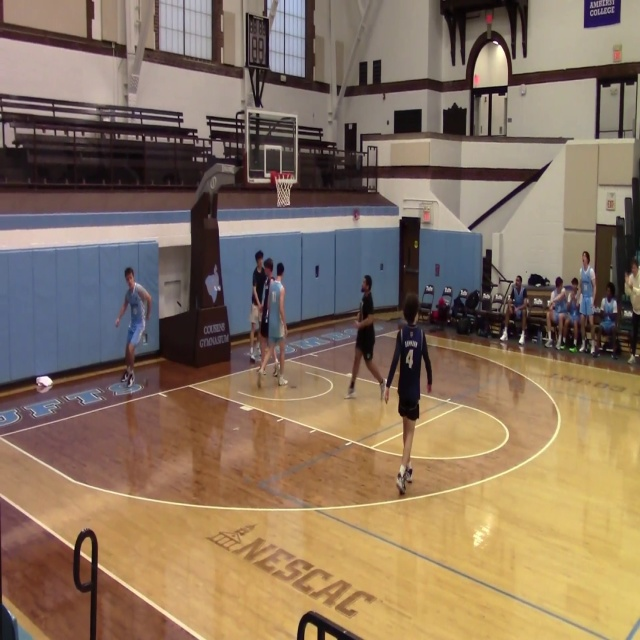Basketball: (36, 375, 53, 388)
